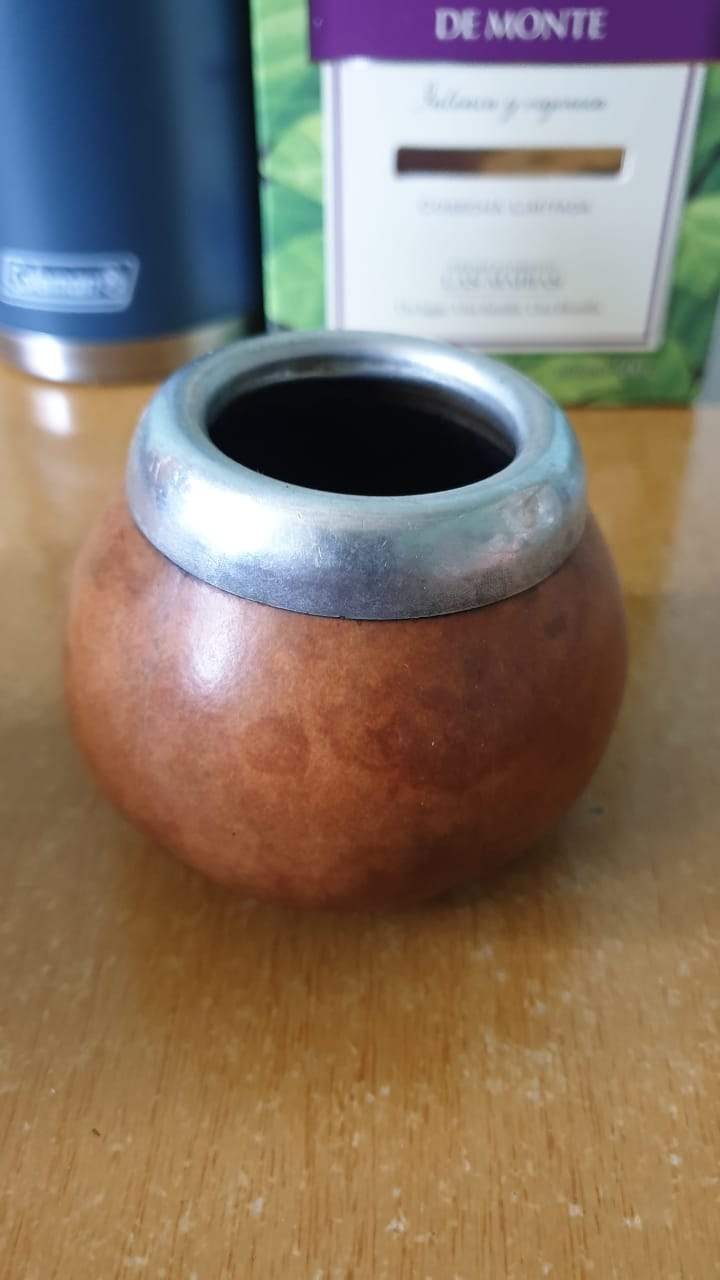calabaza: (61, 340, 693, 928)
mate: (52, 345, 669, 919)
